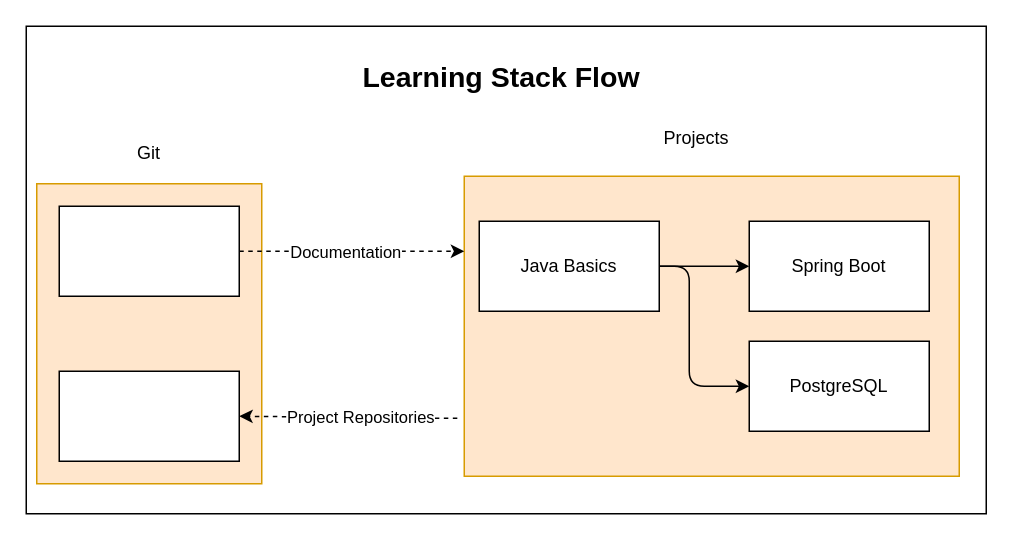
The diagram is 1013 pixels wide and 540 high, and some of its shapes have lost their labels. Each missing label, with the centre of its shape:
Github: point 148,415
Markdown basics: point 148,250
